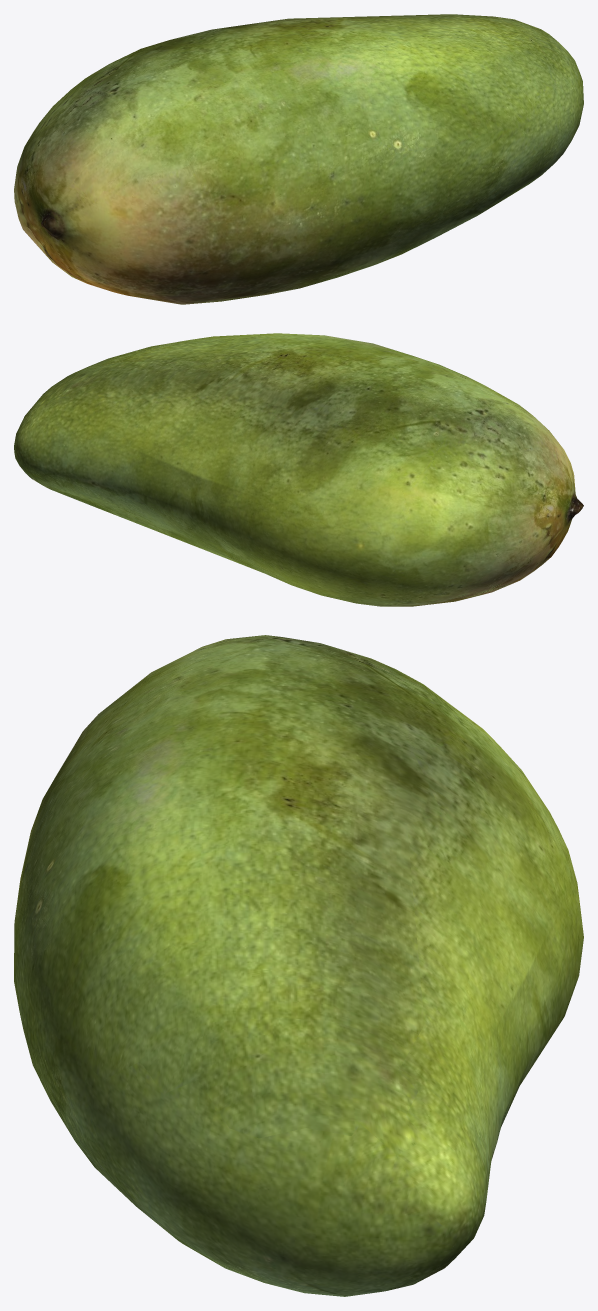
File: 26_mango_green.glb
The picture shows the model from 3 angles, top to bottom: view 1: azimuth 30°, elevation 25°; view 2: azimuth 150°, elevation 25°; view 3: azimuth 270°, elevation 25°; orthographic projection. The views are drawn at different scales.
Visible parts, largest first — view 1: 26_mango; view 2: 26_mango; view 3: 26_mango.
Boxes of the visible parts, left/top/right/bottom form: 26_mango: left=14, top=14, right=583, bottom=304; 26_mango: left=14, top=333, right=583, bottom=606; 26_mango: left=14, top=635, right=583, bottom=1296.
Bounding box in the file's own units: 1.03 × 0.4064 × 0.5223.
1 material, 1 textured.
